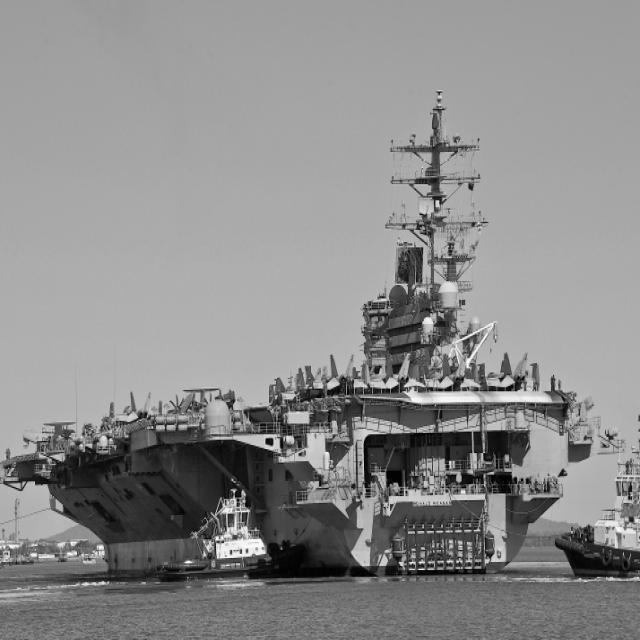Portanaves: (1, 78, 608, 577)
